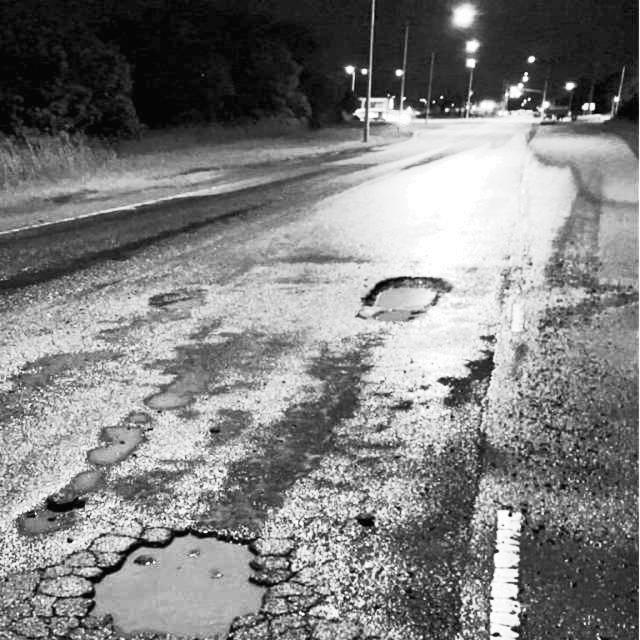Pothole: (67, 498, 297, 639), (349, 260, 464, 341), (147, 279, 221, 322)
